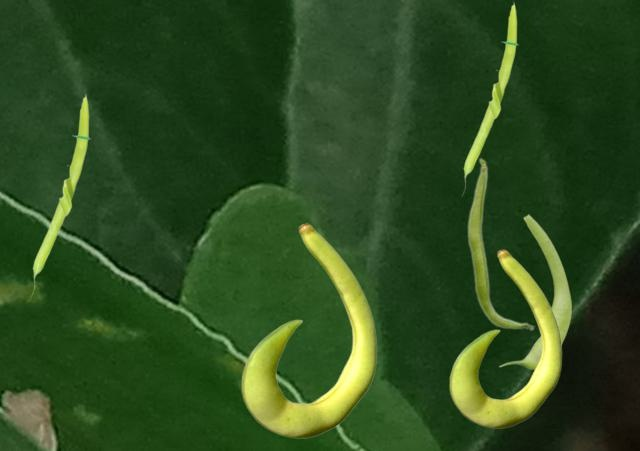french_bean: (241, 223, 376, 437), (449, 249, 561, 427), (30, 92, 90, 297), (466, 157, 534, 330), (498, 213, 571, 368), (461, 0, 518, 196)
